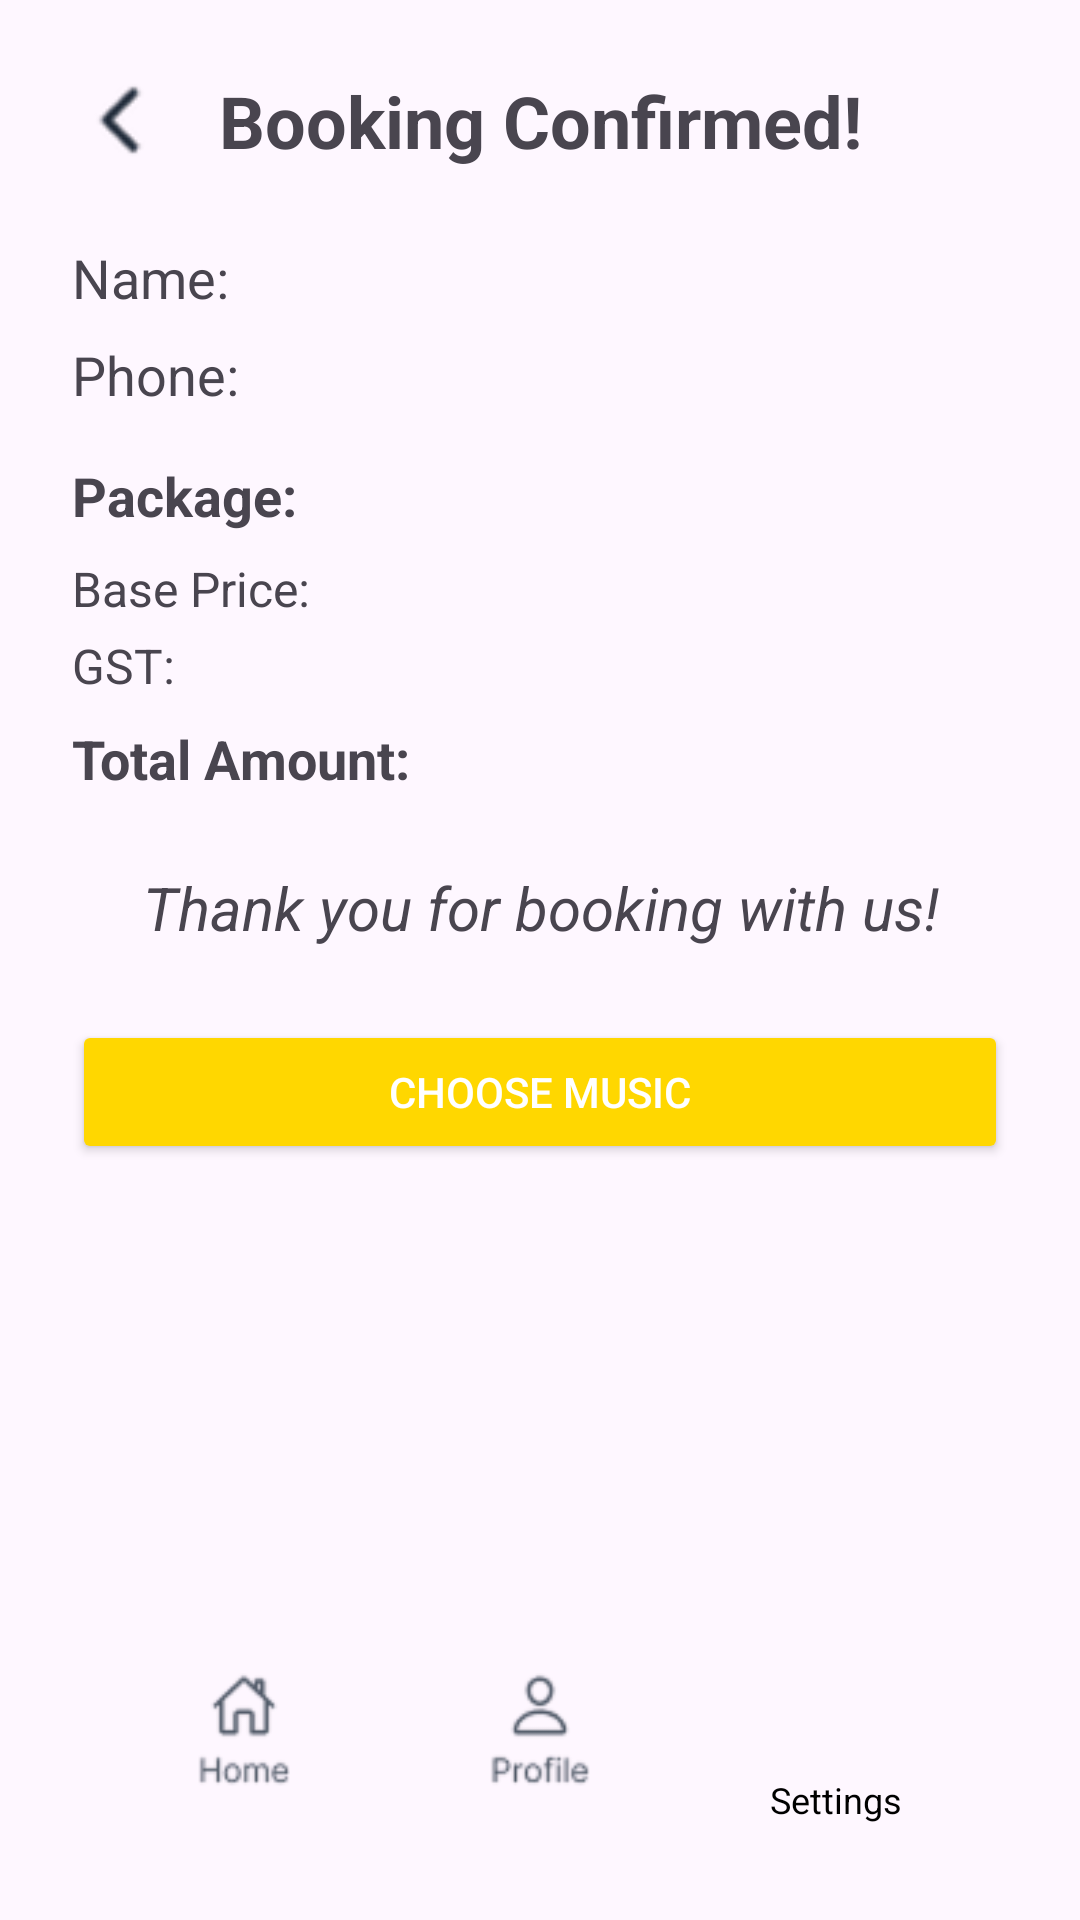

Icons on this 1080×1920 Android screen, each with the point to tap as [x,y]:
Back: [120,120]
